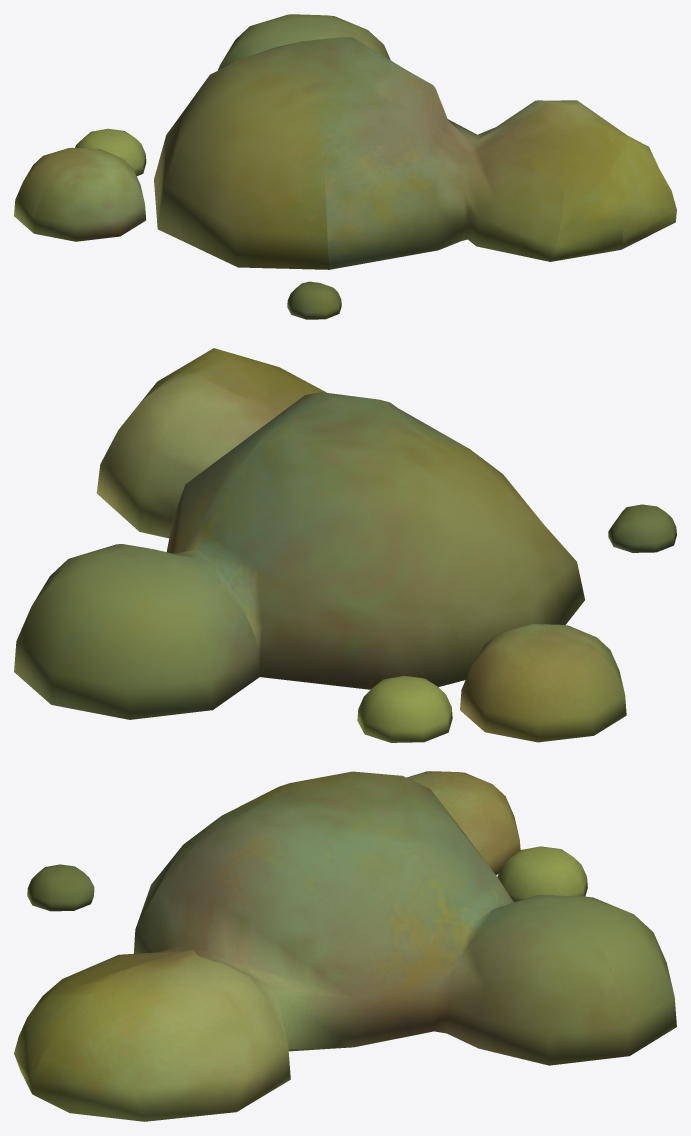
File: mossClumpTemp.fbx
3 views of the same model, one above another, from view 1: azimuth 30°, elevation 25°; view 2: azimuth 150°, elevation 25°; view 3: azimuth 270°, elevation 25° (orthographic). The views are drawn at different scales.
Visible parts, largest first — view 1: moss clump ONE; view 2: moss clump ONE; view 3: moss clump ONE.
Part boxes in pixels (<box>): moss clump ONE: <box>14,14,676,319</box>; moss clump ONE: <box>14,348,676,742</box>; moss clump ONE: <box>14,771,676,1121</box>.
Size of the model in its own units: 335 by 88.88 by 309.
